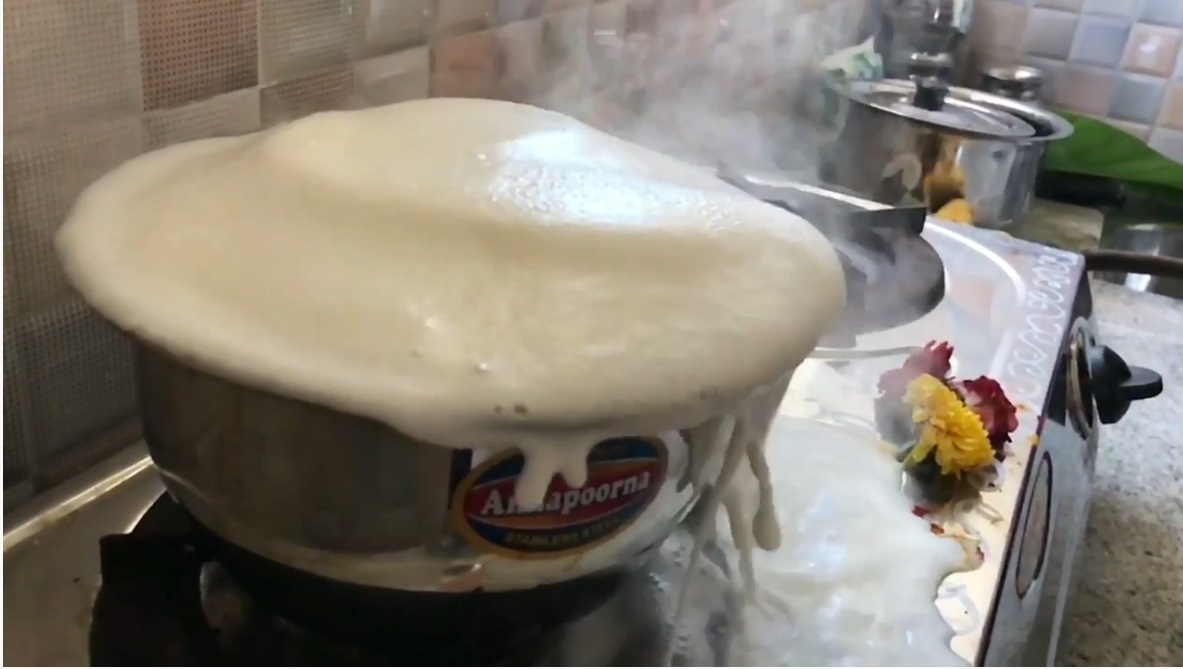Boiled: (33, 94, 870, 619)
